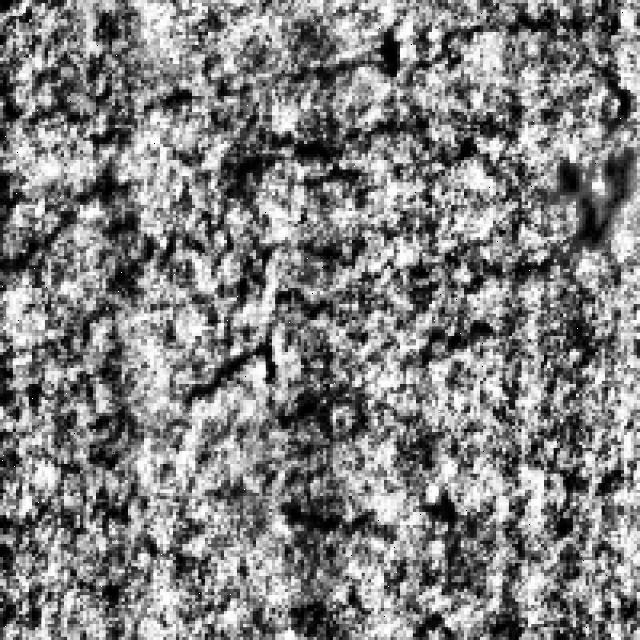Pitted_Surface: (3, 134, 541, 397)
